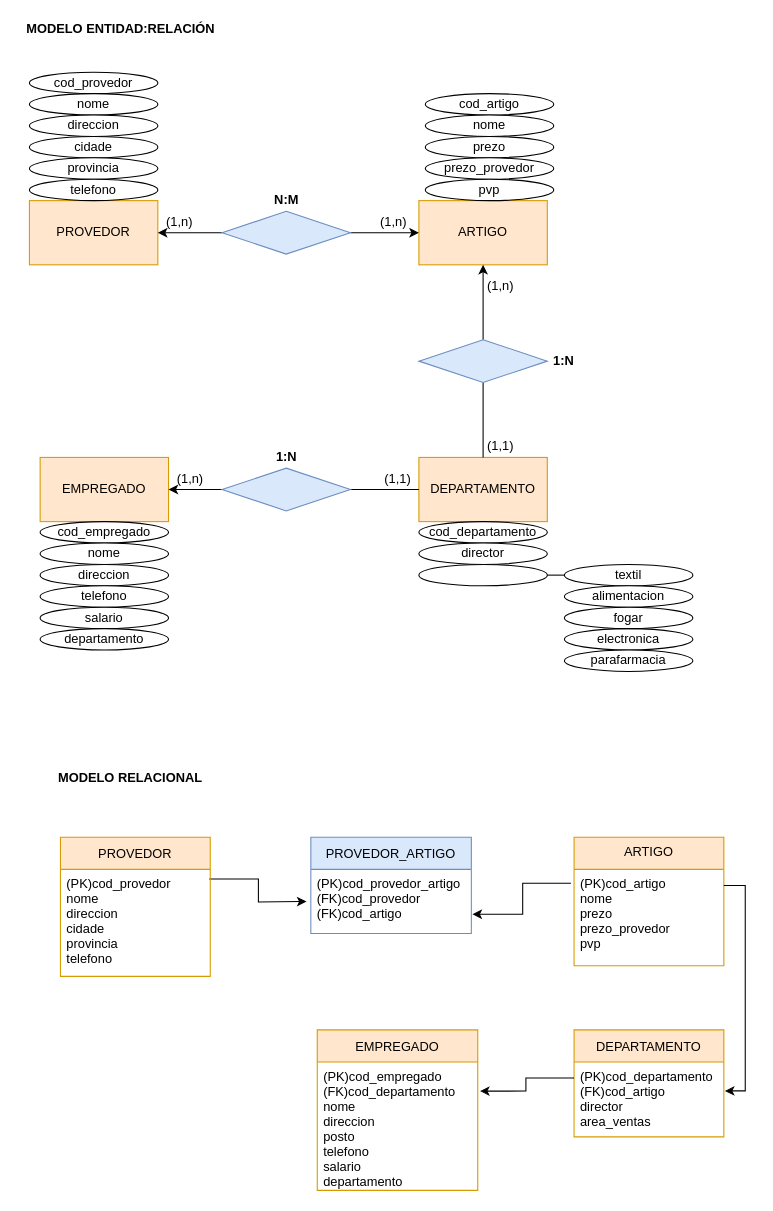
This 773x1211 diagram has some shape labels left out. Here are the shapes that lost their labels. From the top down, the centre of each, then its label:
pixel 285 232: suministrar
pixel 482 361: vender
pixel 285 489: ter
pixel 482 574: area_ventas
